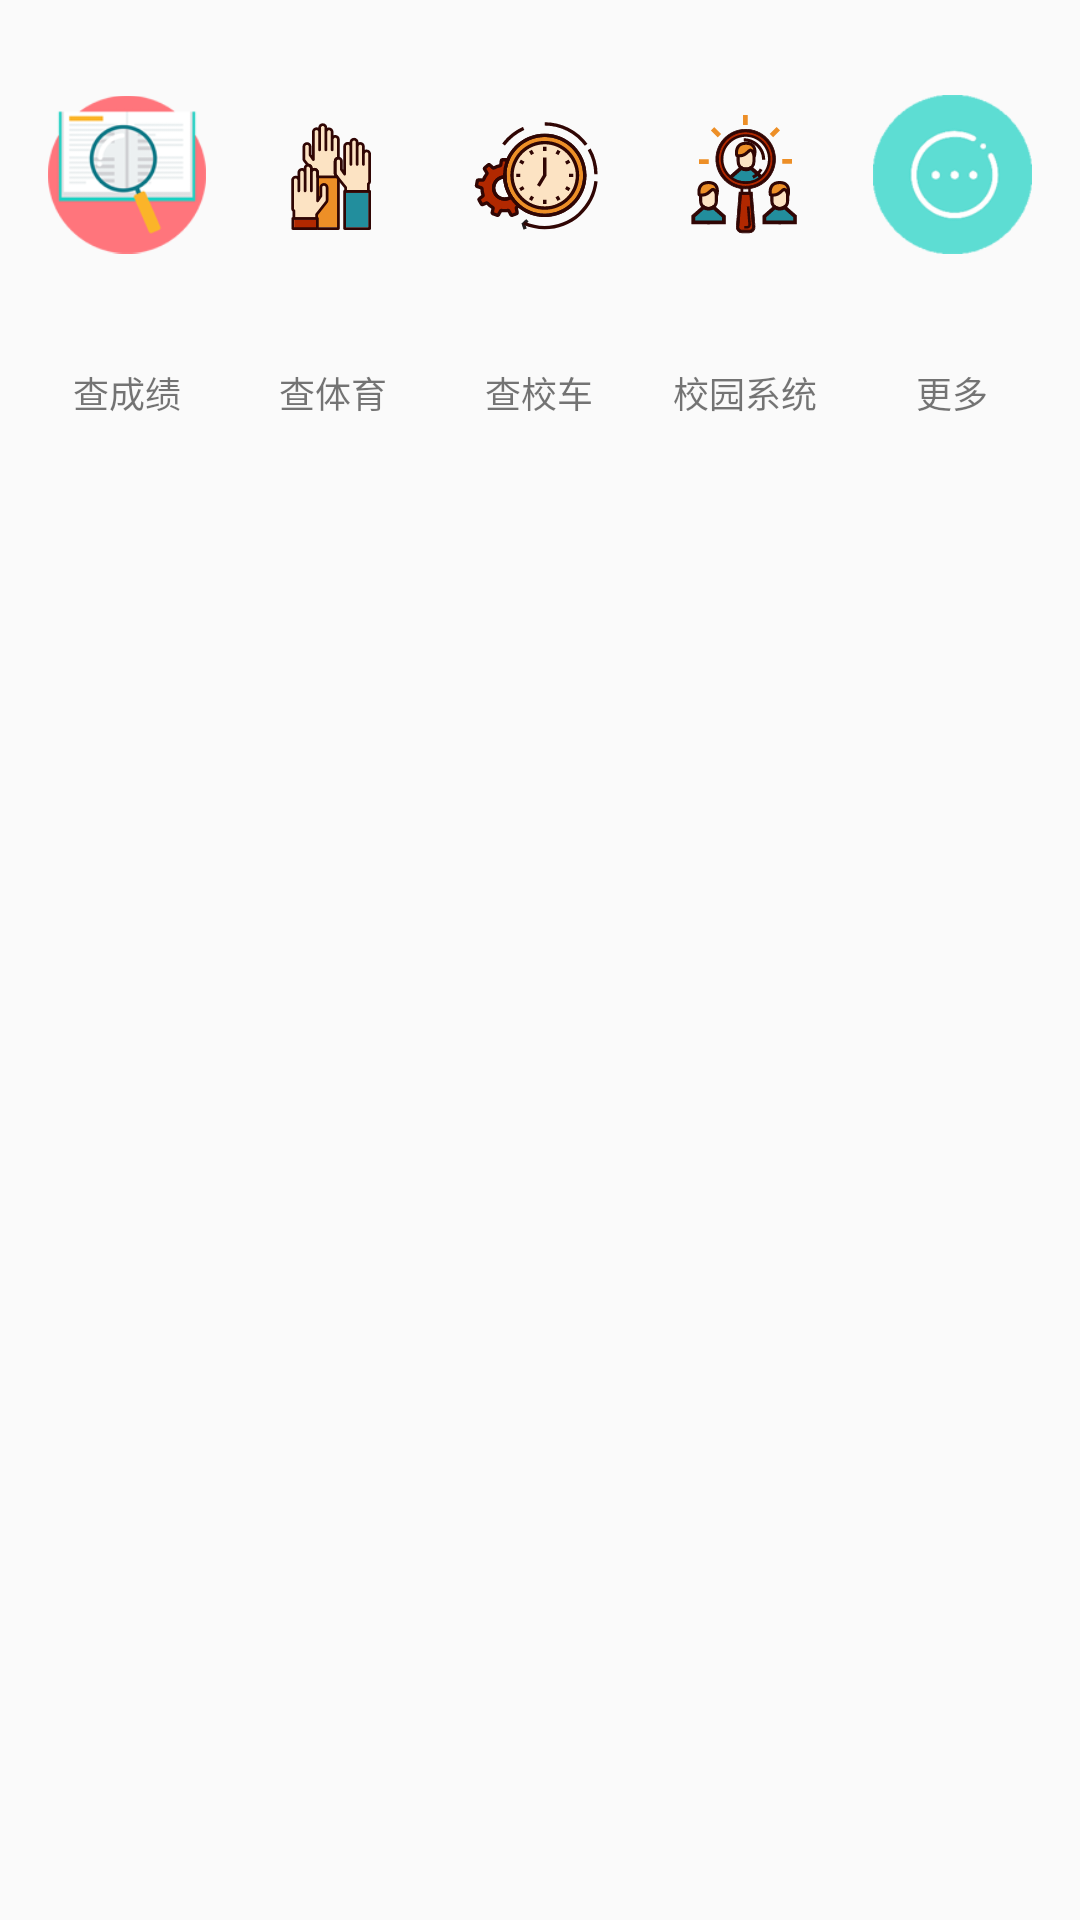

Screen size 1080 × 1920. Icon name, then its center in pixels as [x,y]:
more: [952,174]
